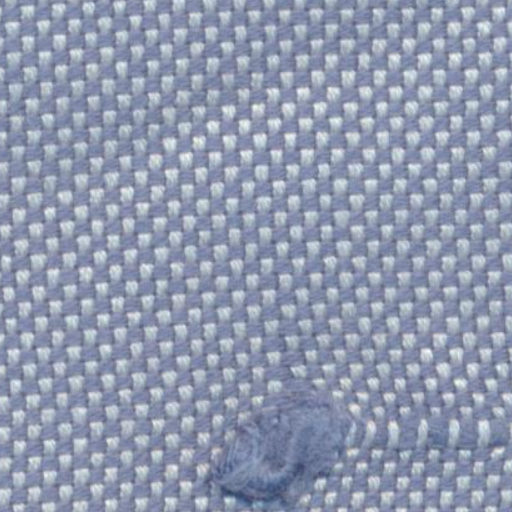MianQiu: (178, 358, 348, 502)
